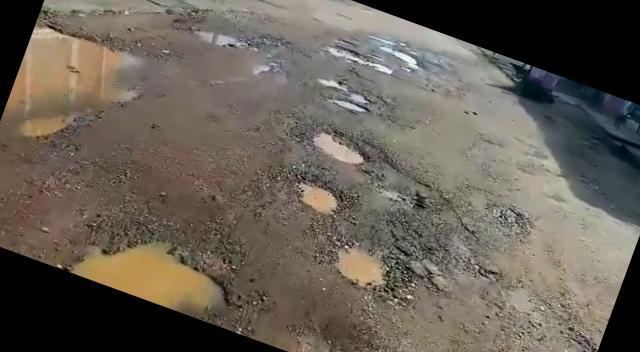pothole: (65, 210, 243, 327), (327, 235, 399, 294), (302, 121, 372, 171), (321, 38, 394, 76), (290, 175, 348, 220), (317, 73, 375, 104), (323, 91, 377, 121), (194, 22, 243, 55), (386, 46, 428, 71)
